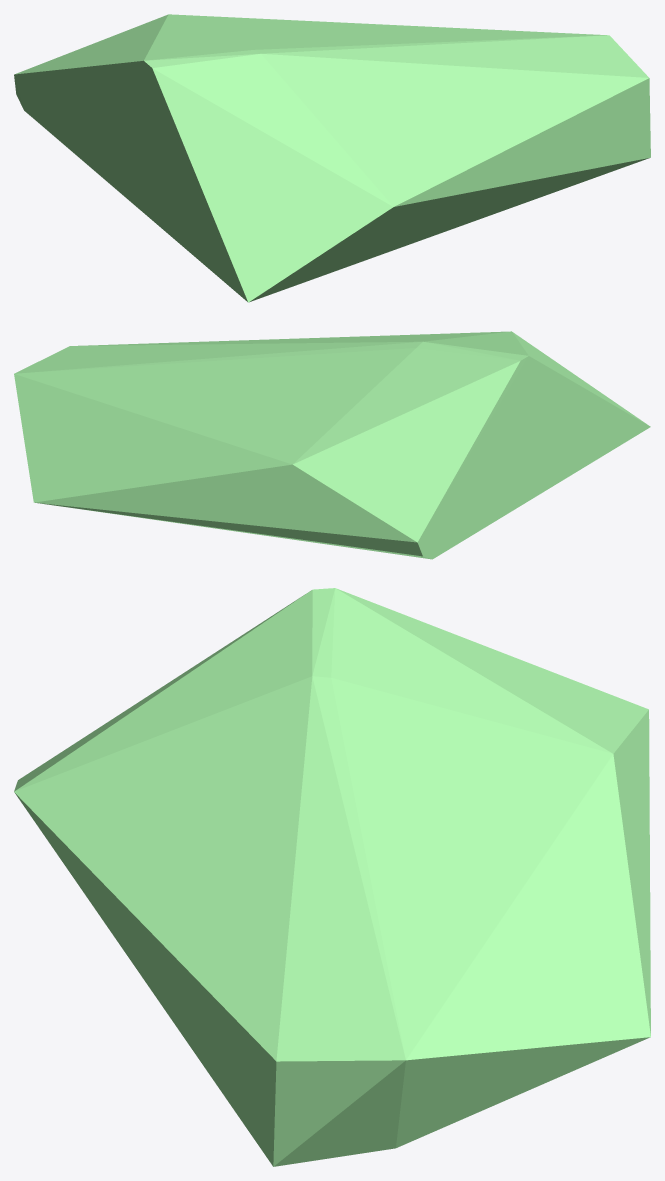
The model's file is UMIRobot_UMIRobot_link_5_convex_coll_23.dae.
The picture shows the model from 3 angles, top to bottom: view 1: azimuth 30°, elevation 25°; view 2: azimuth 150°, elevation 25°; view 3: azimuth 270°, elevation 25°; orthographic projection. The views are drawn at different scales.
Visible parts, largest first — view 1: node; view 2: node; view 3: node.
Boxes of the visible parts, <box> form: node: <box>14,14,650,302</box>; node: <box>14,331,650,559</box>; node: <box>14,588,650,1166</box>.
Size of the model in its own units: 0.0372 by 0.0139 by 0.0303.
